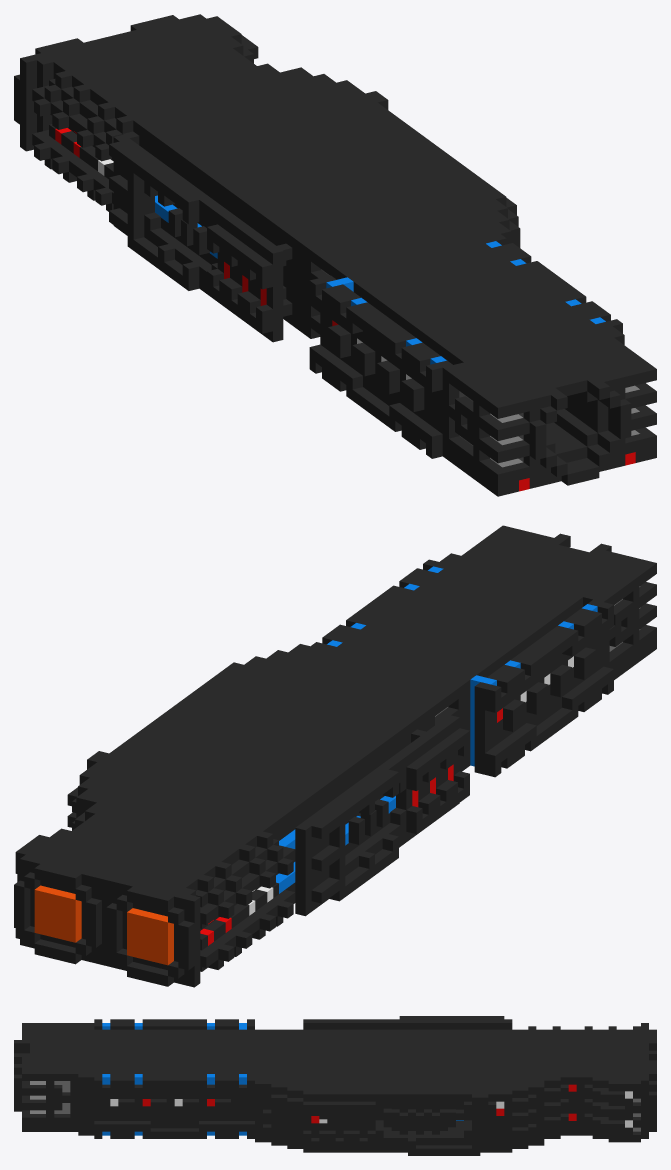
File: Extra-3-DualStriker_Arm_R.obj
3 views of the same model, one above another, from view 1: azimuth 30°, elevation 25°; view 2: azimuth 150°, elevation 25°; view 3: azimuth 270°, elevation 25° (orthographic). The views are drawn at different scales.
Visible parts, largest first — view 1: DualStriker_Arm_R; view 2: DualStriker_Arm_R; view 3: DualStriker_Arm_R.
Boxes of the visible parts, x1,y1,x2,y2 form: DualStriker_Arm_R: [14, 14, 656, 496]; DualStriker_Arm_R: [14, 525, 656, 987]; DualStriker_Arm_R: [14, 1016, 656, 1155].
Bounding box in the file's own units: 2.4 × 0.8 × 8.
1 material, 1 textured.
